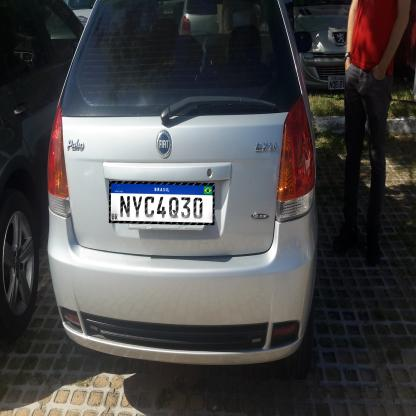PlacaM: (108, 181, 214, 225)
